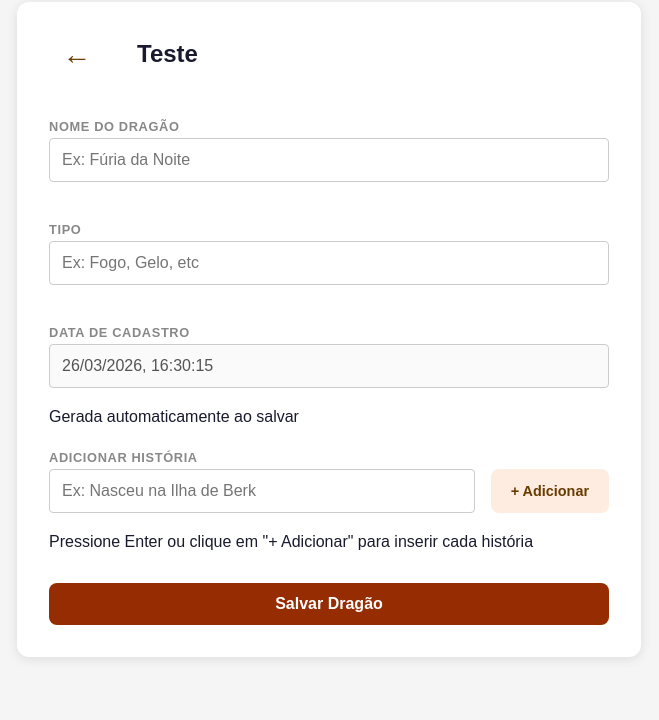
Test: DragonForm › deve adicionar uma história ao pressionar a tecla Enter
In the field with placeholder "Ex: Nasceu na Ilha de Berk": (262, 491) [49,469,475,513], type "História via Enter"
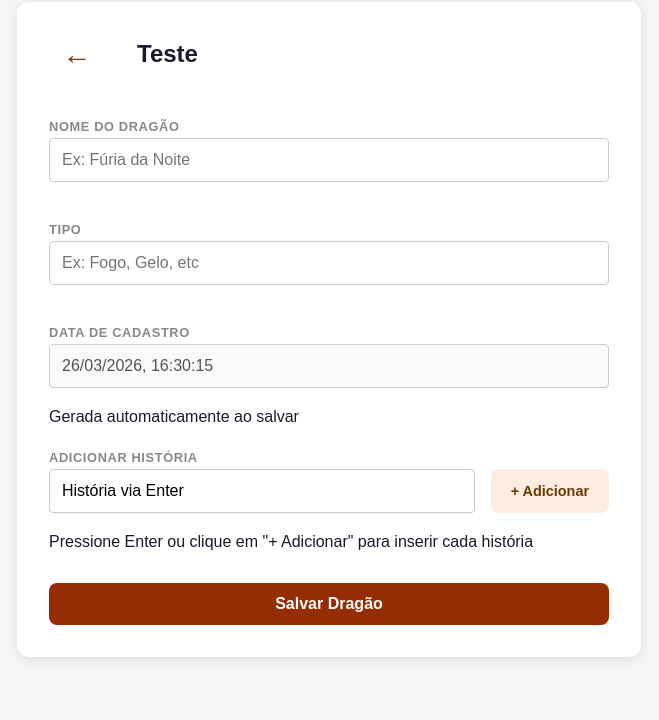
Press Enter in the field with placeholder "Ex: Nasceu na Ilha de Berk", box [49,469,475,513]
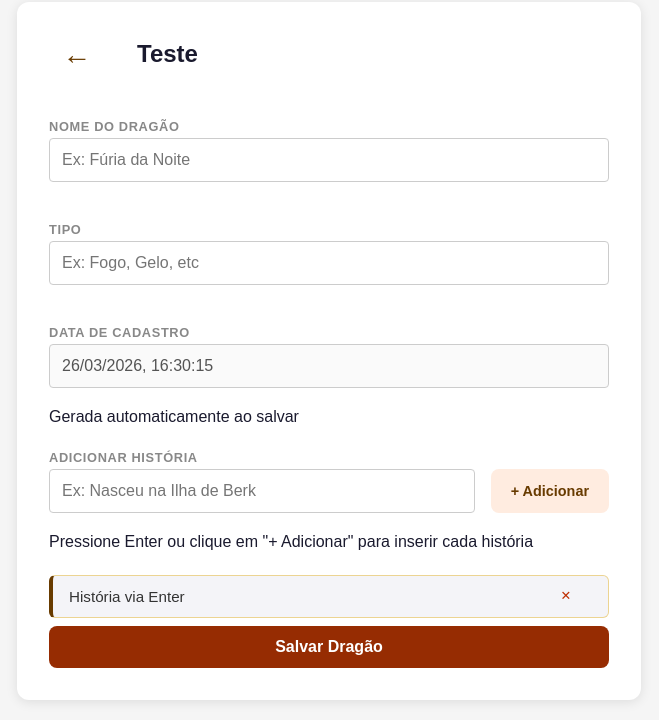
Expected: the text "História via Enter" is shown, [69,588,185,605]
Expected: the field with placeholder "Ex: Nasceu na Ilha de Berk" is empty, [49,469,475,513]
